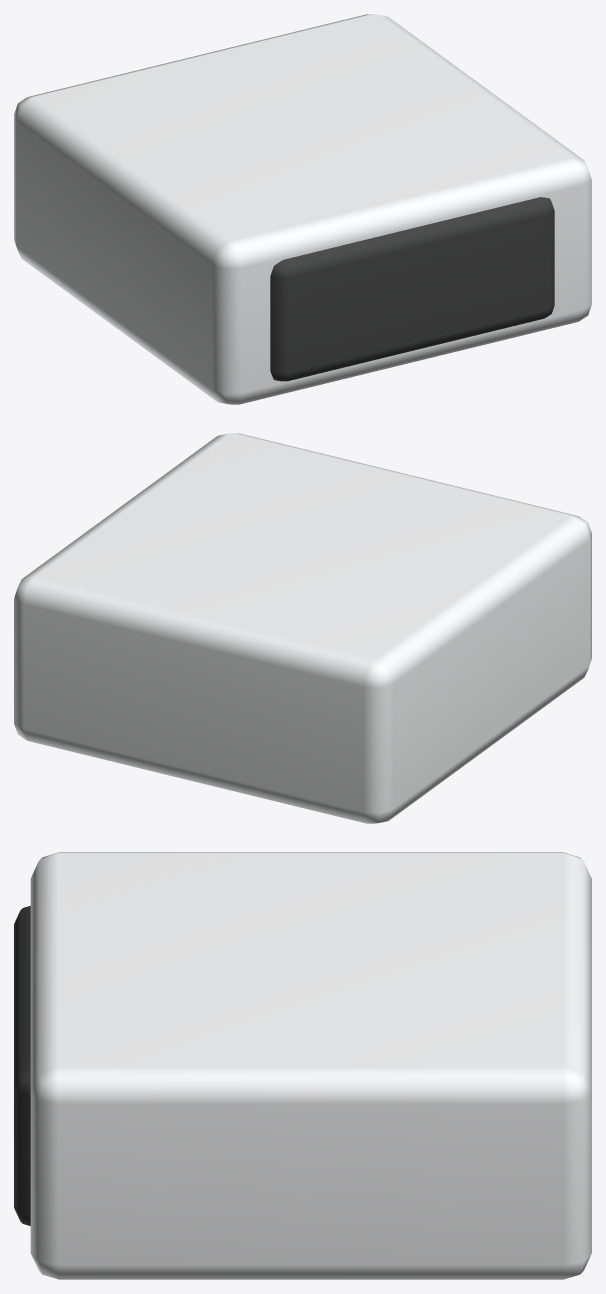
The model's file is cup_platform_001.fbx.
3 views of the same model, one above another, from view 1: azimuth 30°, elevation 25°; view 2: azimuth 150°, elevation 25°; view 3: azimuth 270°, elevation 25° (orthographic). The views are drawn at different scales.
Parts seen in each view (by area): view 1: cup_platform_001; view 2: cup_platform_001; view 3: cup_platform_001.
Boxes of the visible parts, x1,y1,x2,y2 form: cup_platform_001: [14, 14, 591, 404]; cup_platform_001: [14, 433, 591, 823]; cup_platform_001: [14, 852, 591, 1279].
Bounding box in the file's own units: 695 × 715 × 289.
